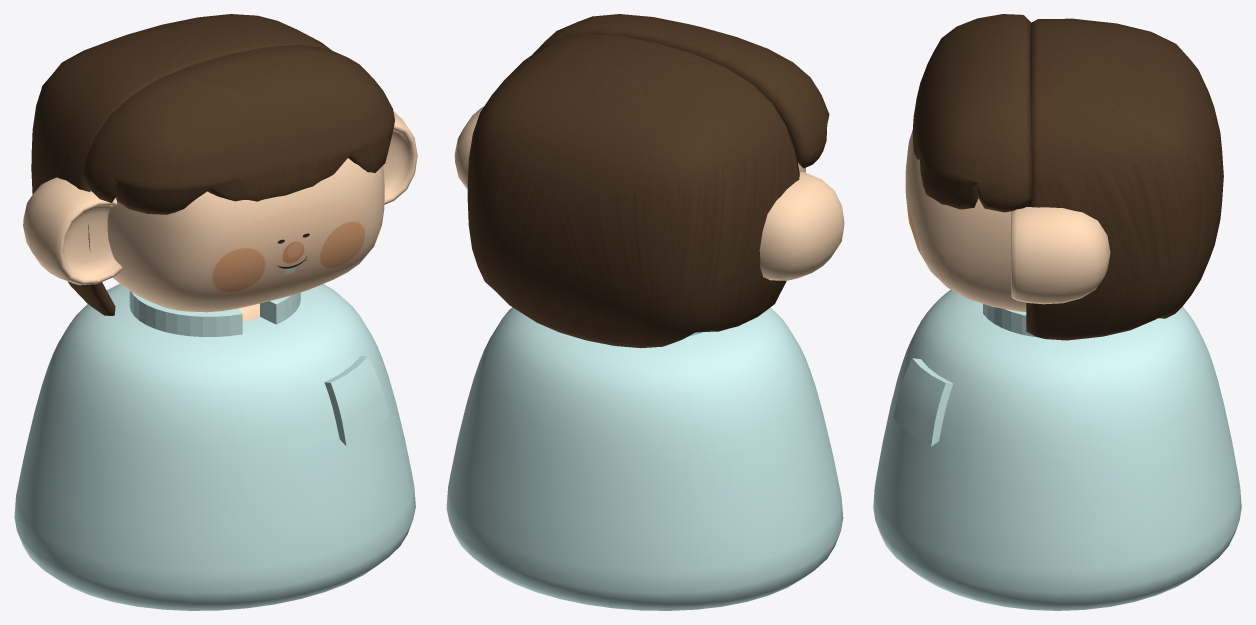
File: chonkyguy.fbx
3 renders of one model, left to right at view 1: azimuth 30°, elevation 25°; view 2: azimuth 150°, elevation 25°; view 3: azimuth 270°, elevation 25°, orthographic.
Parts seen in each view (by area): view 1: chonky_guy2; view 2: chonky_guy2; view 3: chonky_guy2.
Boxes of the visible parts, x1,y1,x2,y2 form: chonky_guy2: [14, 14, 417, 610]; chonky_guy2: [446, 14, 844, 610]; chonky_guy2: [873, 14, 1241, 610].
Size of the model in its own units: 118 by 155 by 104.
4 materials, 4 textured.
